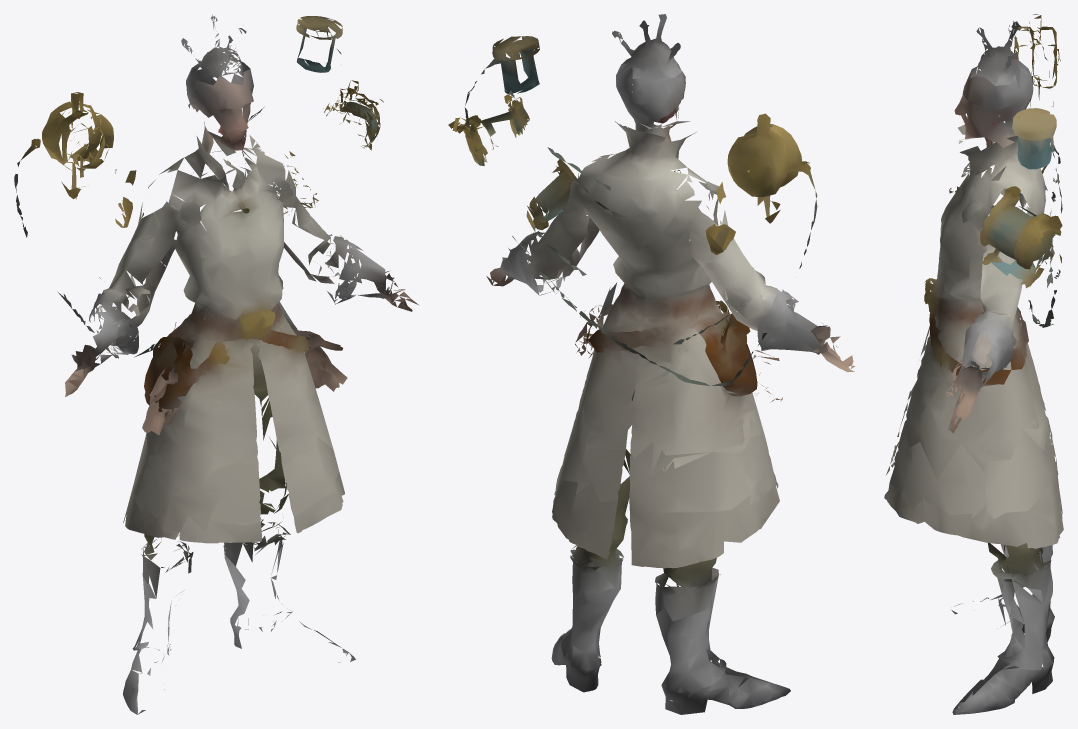
The model's file is ilse.glb.
3 views of the same model, side by side, from view 1: azimuth 30°, elevation 25°; view 2: azimuth 150°, elevation 25°; view 3: azimuth 270°, elevation 25° (orthographic). The views are drawn at different scales.
Parts seen in each view (by area): view 1: torso, hips, thighL, thighR, foreR, head, shinL, shinR, foreL; view 2: torso, hips, thighL, shinL, thighR, shinR, head, armR, foreR, armL; view 3: torso, hips, thighR, shinR, head, foreR, shinL, armR.
Boxes of the visible parts, x1,y1,x2,y2 form: torso: (14, 16, 418, 487); hips: (133, 434, 339, 532); thighL: (123, 484, 261, 597); thighR: (223, 472, 344, 571); foreR: (278, 202, 347, 391); head: (181, 14, 250, 85); shinL: (123, 577, 184, 714); shinR: (223, 546, 355, 662); foreL: (99, 277, 178, 435); torso: (448, 36, 855, 474); hips: (562, 406, 774, 512); thighL: (629, 473, 779, 621); shinL: (656, 598, 790, 714); thighR: (552, 452, 629, 597); shinR: (551, 588, 620, 692); head: (612, 14, 682, 82); armR: (526, 147, 610, 225); foreR: (528, 210, 616, 358); armL: (640, 121, 735, 254); torso: (901, 14, 1062, 479); hips: (889, 412, 1057, 520); thighR: (884, 473, 1063, 604); shinR: (952, 581, 1054, 714); head: (970, 21, 1028, 90); foreR: (946, 261, 1060, 433); shinL: (951, 544, 1054, 641); armR: (958, 137, 1061, 267).
Size of the model in its own units: 0.5844 by 0.9999 by 0.2541.
